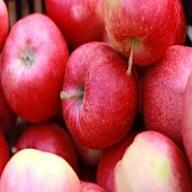apple: (62, 42, 136, 143), (1, 14, 68, 118), (110, 132, 192, 190), (101, 4, 176, 65), (142, 43, 188, 136), (2, 148, 80, 191)
